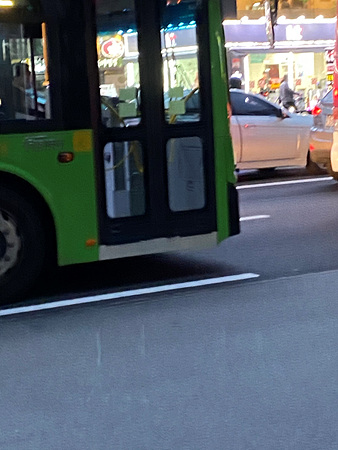entrance: (80, 3, 216, 251)
